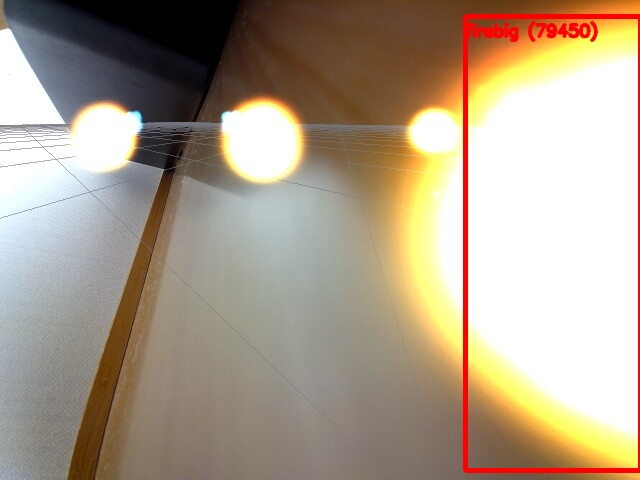firebig: (465, 16, 640, 470)
